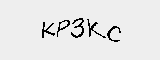Д: (12, 16, 37, 36), (35, 15, 57, 35)
М: (119, 13, 148, 31)
П: (57, 14, 76, 29)
Р: (98, 12, 118, 32)
Ң: (77, 14, 97, 33)
